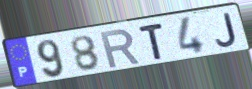4: (178, 15, 206, 57)
8: (69, 34, 101, 73)
9: (37, 38, 68, 80)
J: (214, 11, 239, 49)
R: (98, 28, 142, 70)
T: (137, 21, 166, 61)
